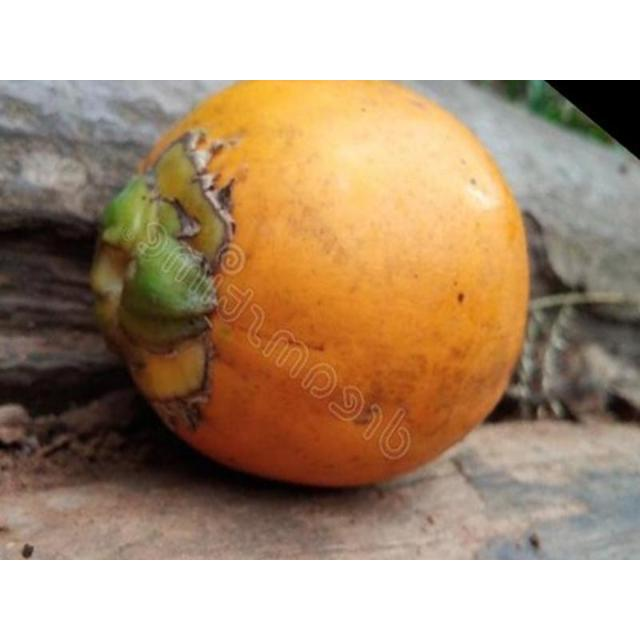good: (89, 80, 531, 490)
